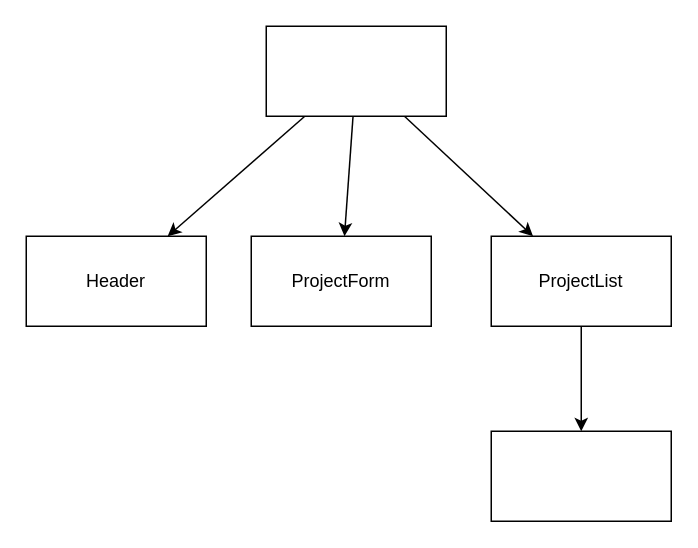
This 698x548 diagram has some shape labels left out. The shapes that lost their labels are listed below. From the top down, each one's centre as x and y in pixels, then its label:
At pixel 355 70: "App".
At pixel 580 475: "ProjectListItem".
